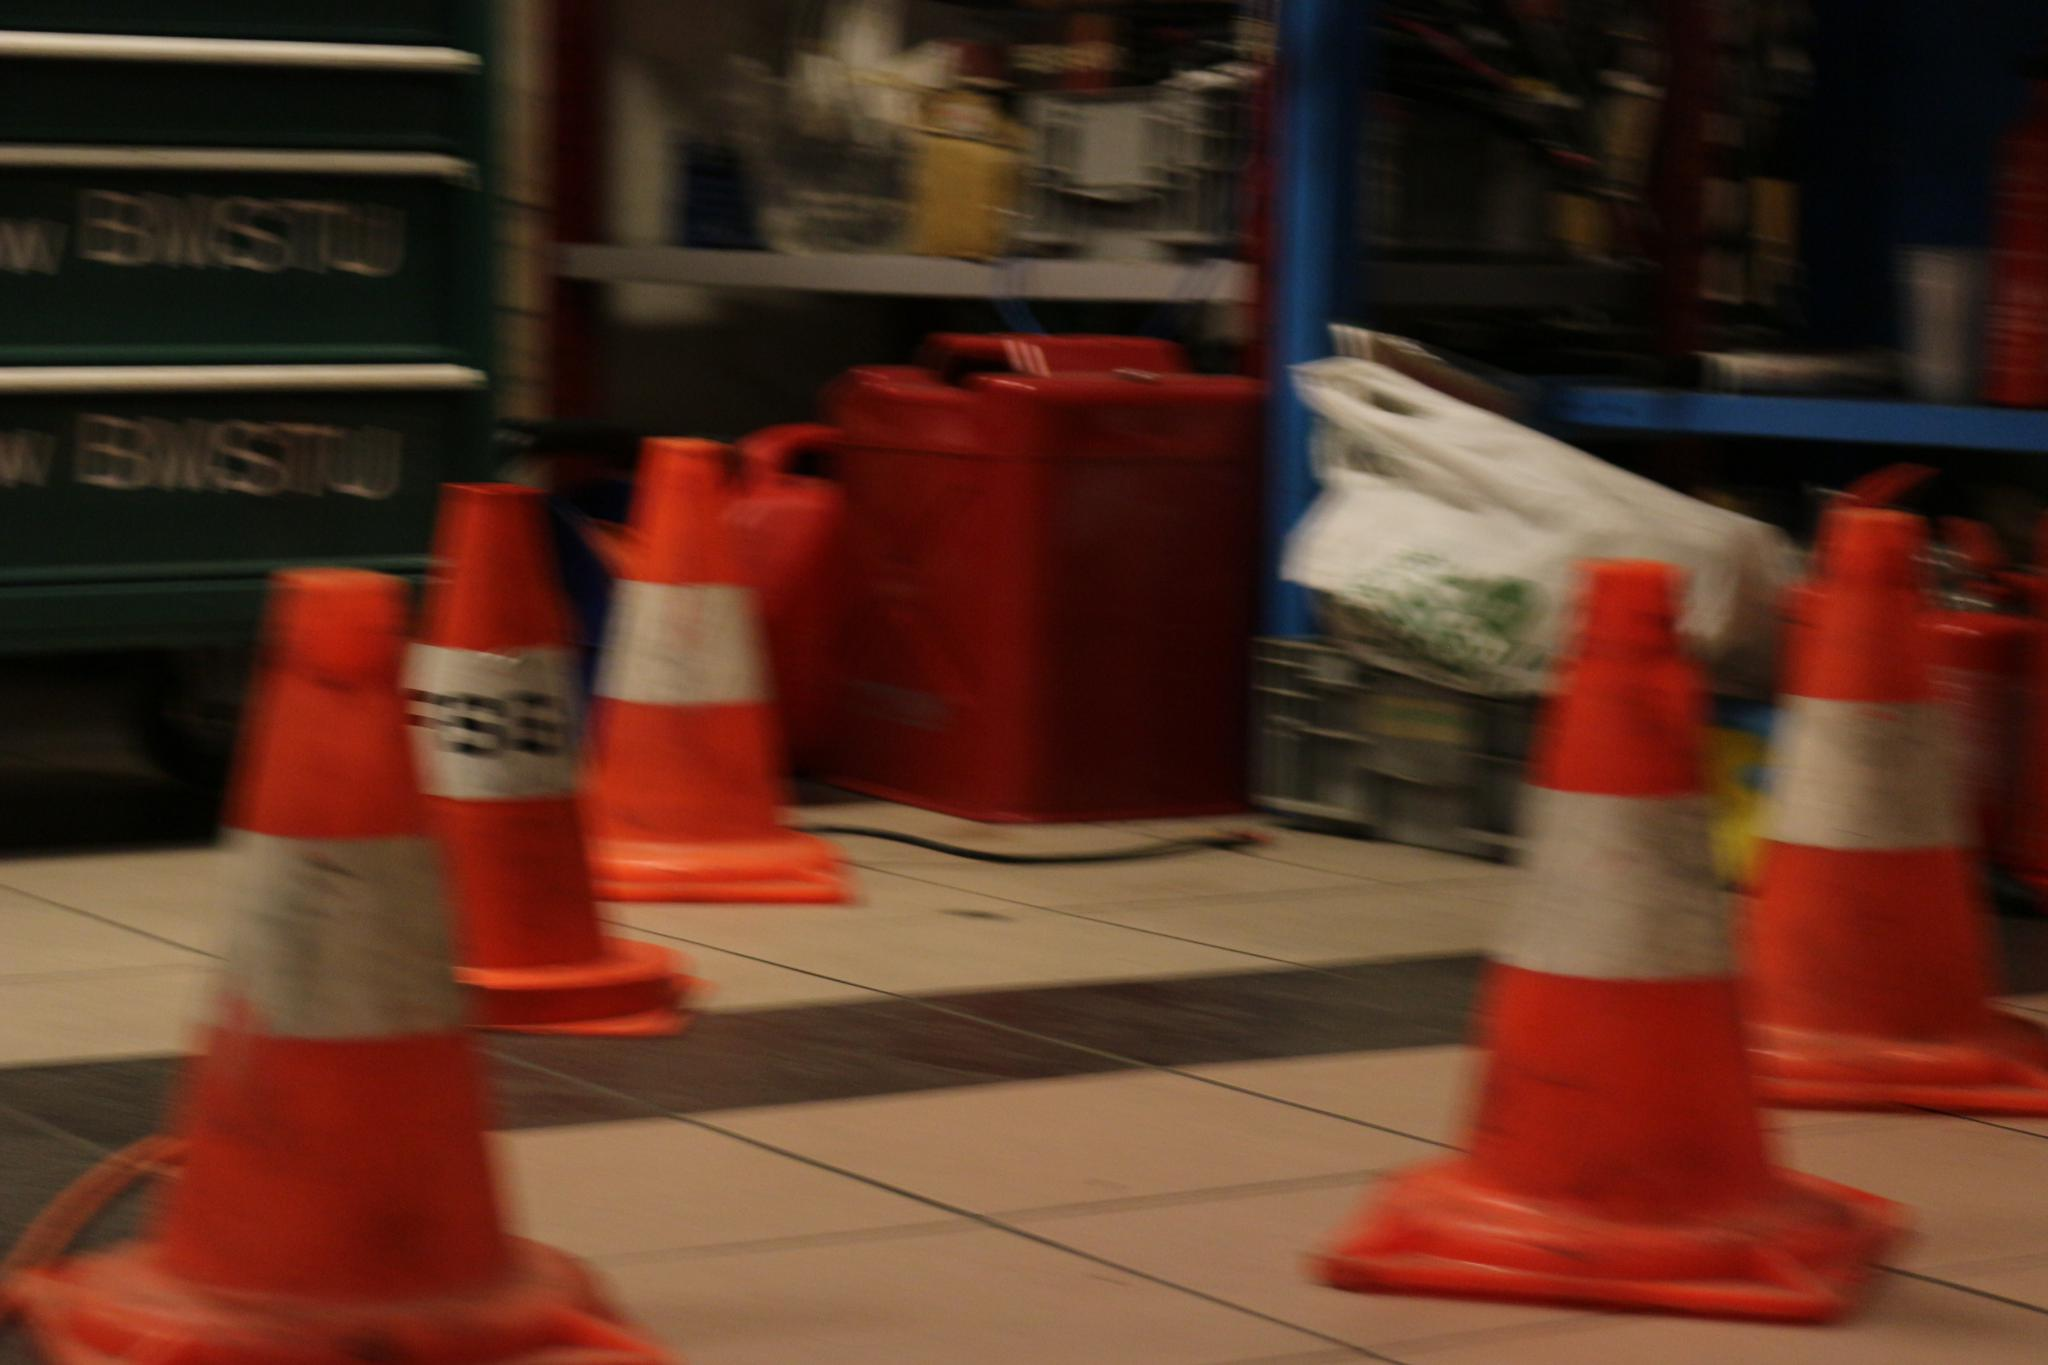Orange_Cone: (72, 545, 630, 1363), (1308, 538, 1890, 1307), (1669, 487, 2046, 1112), (326, 460, 694, 1030), (562, 407, 862, 905)
